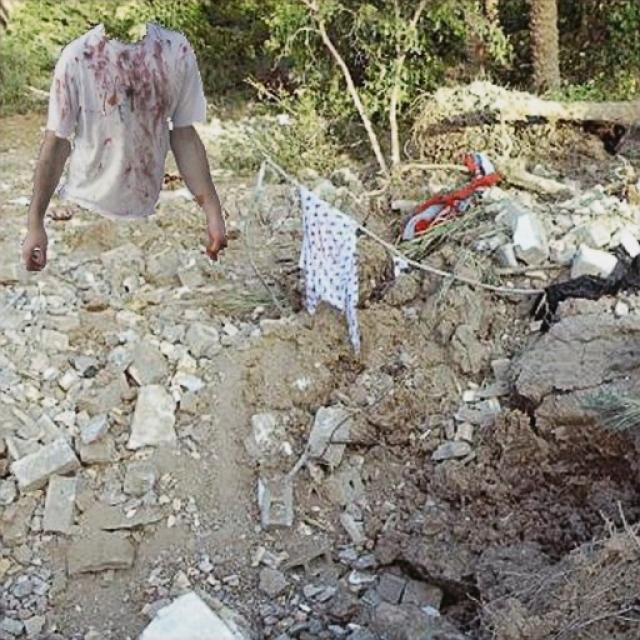Person in Rubble: (22, 21, 226, 270)
